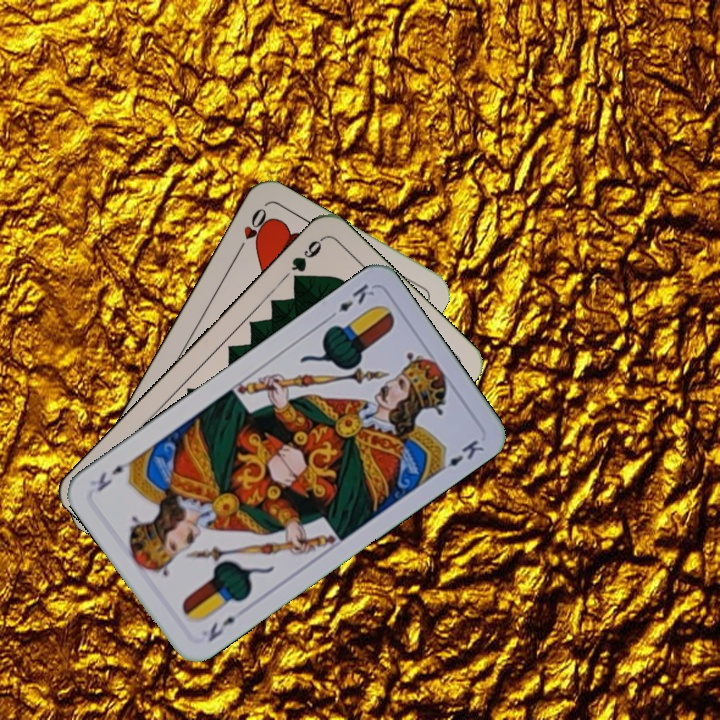EK: (323, 279, 377, 323), (203, 612, 238, 645)
G9: (287, 234, 326, 288)
HO: (233, 203, 272, 256)
